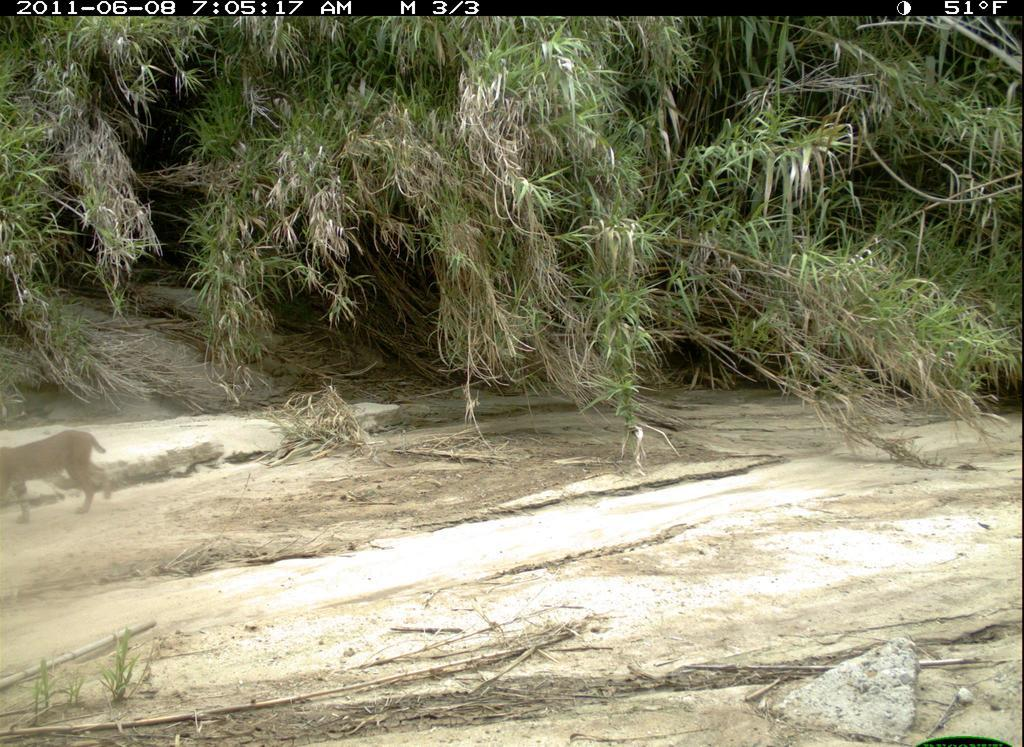bobcat: (2, 424, 125, 527)
